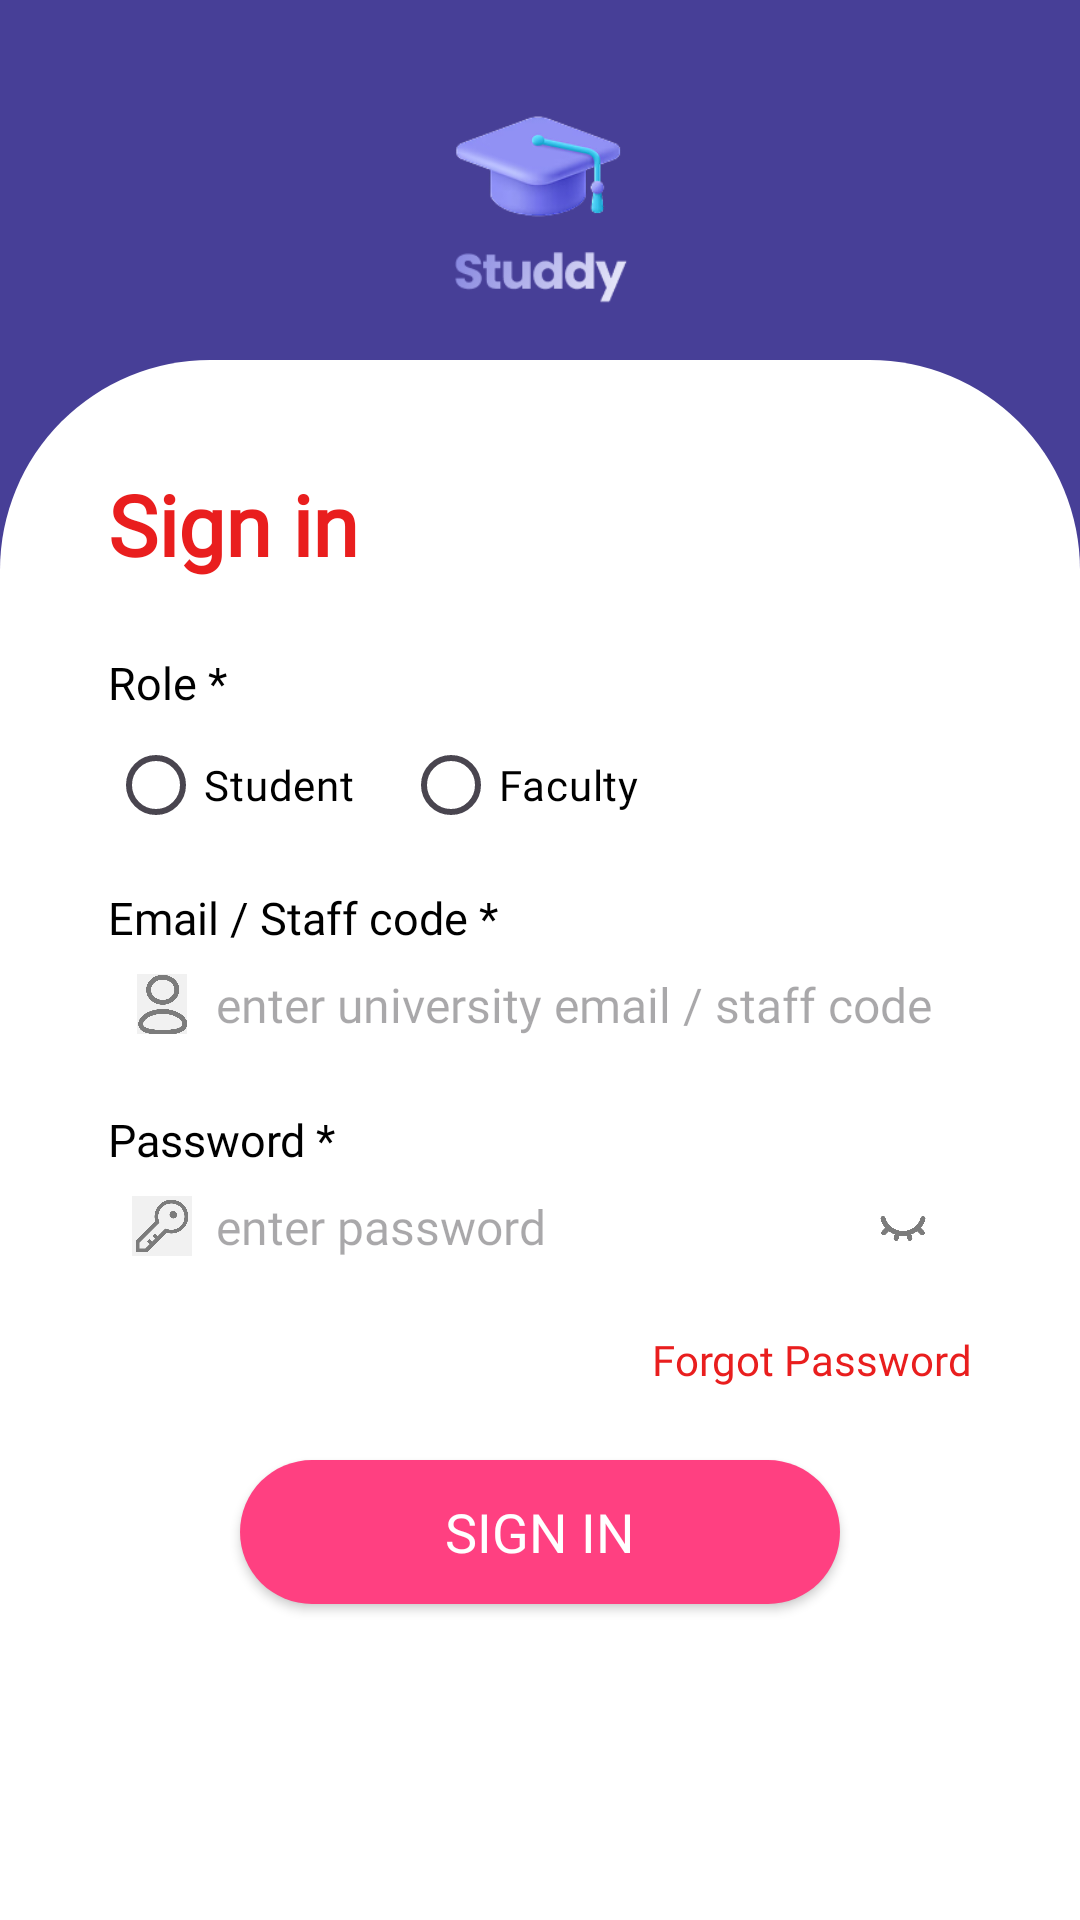

Where to tap for icons on this 1080 × 1920 app screen, as [x,y]:
eye close: [903,1228]
user: [162,1004]
